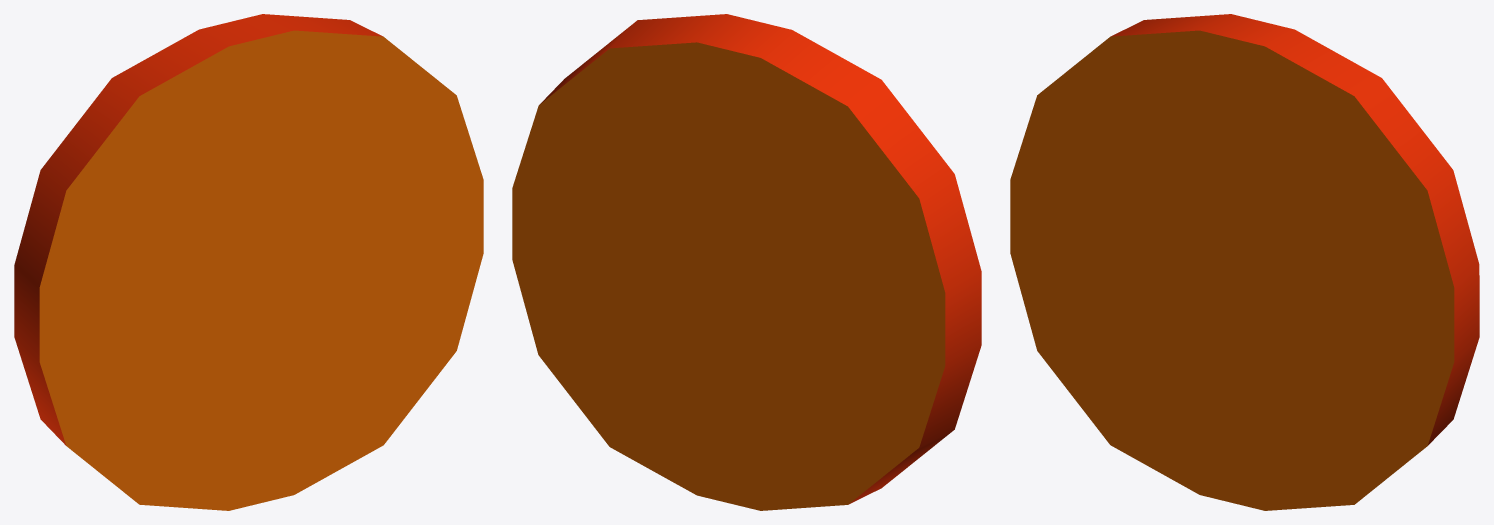
Rendered from mesh_tomato_slice_stage04.fbx.
The picture shows the model from 3 angles, left to right: view 1: azimuth 30°, elevation 25°; view 2: azimuth 150°, elevation 25°; view 3: azimuth 330°, elevation 25°; orthographic projection.
Visible parts, largest first — view 1: mesh_tomato_slice_stage04; view 2: mesh_tomato_slice_stage04; view 3: mesh_tomato_slice_stage04.
Boxes of the visible parts, x1,y1,x2,y2 form: mesh_tomato_slice_stage04: (14,14,483,510); mesh_tomato_slice_stage04: (512,14,981,510); mesh_tomato_slice_stage04: (1010,14,1479,510).
Size of the model in its own units: 0.1904 by 0.1904 by 0.0228.
